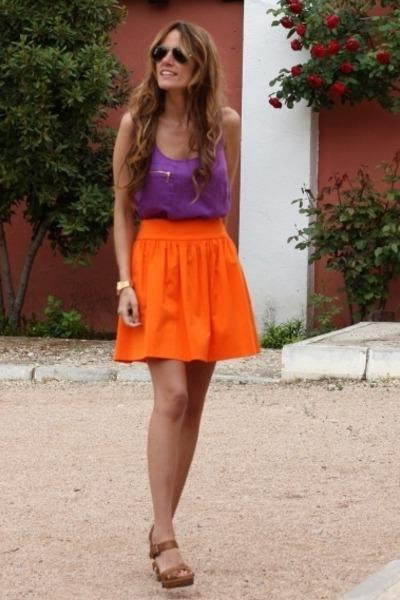skirt: (108, 218, 258, 364)
vest: (132, 105, 232, 223)
